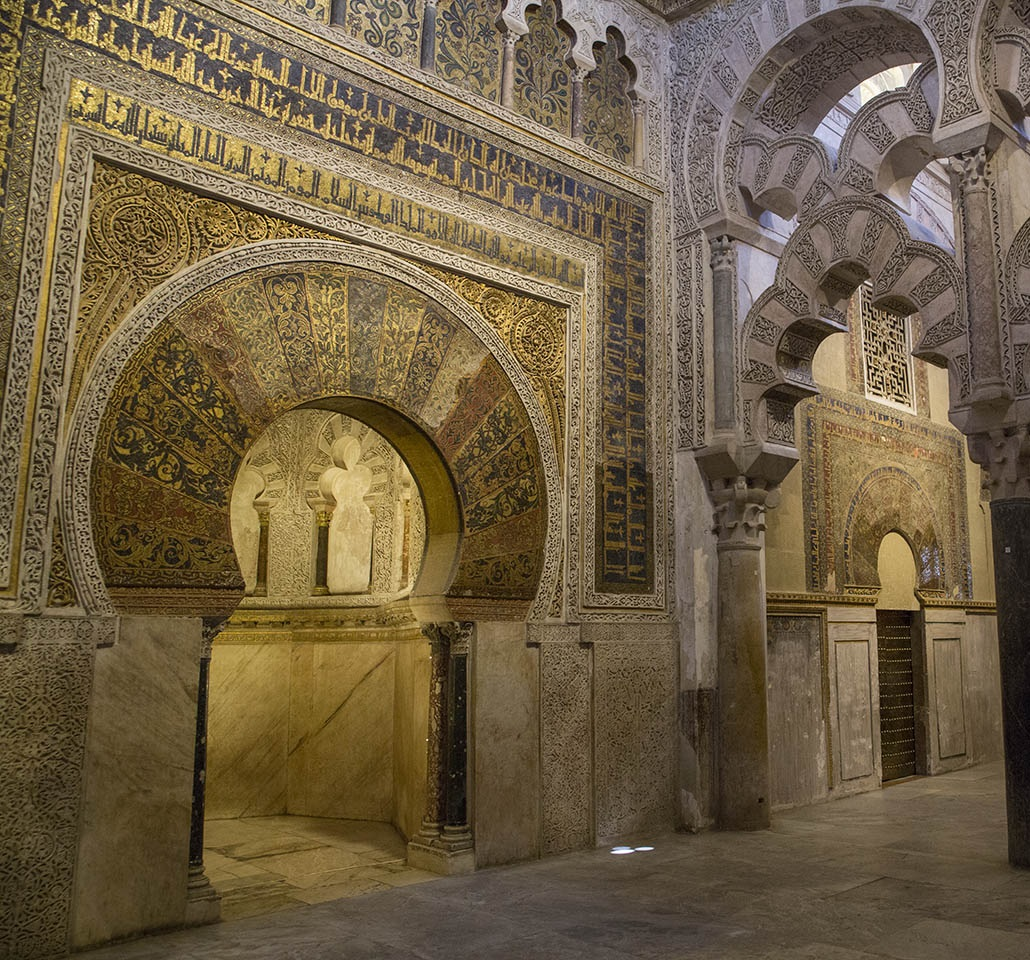arco-herradura: (195, 374, 477, 641), (712, 1, 955, 232)
arco-lobulado: (742, 249, 976, 463)
